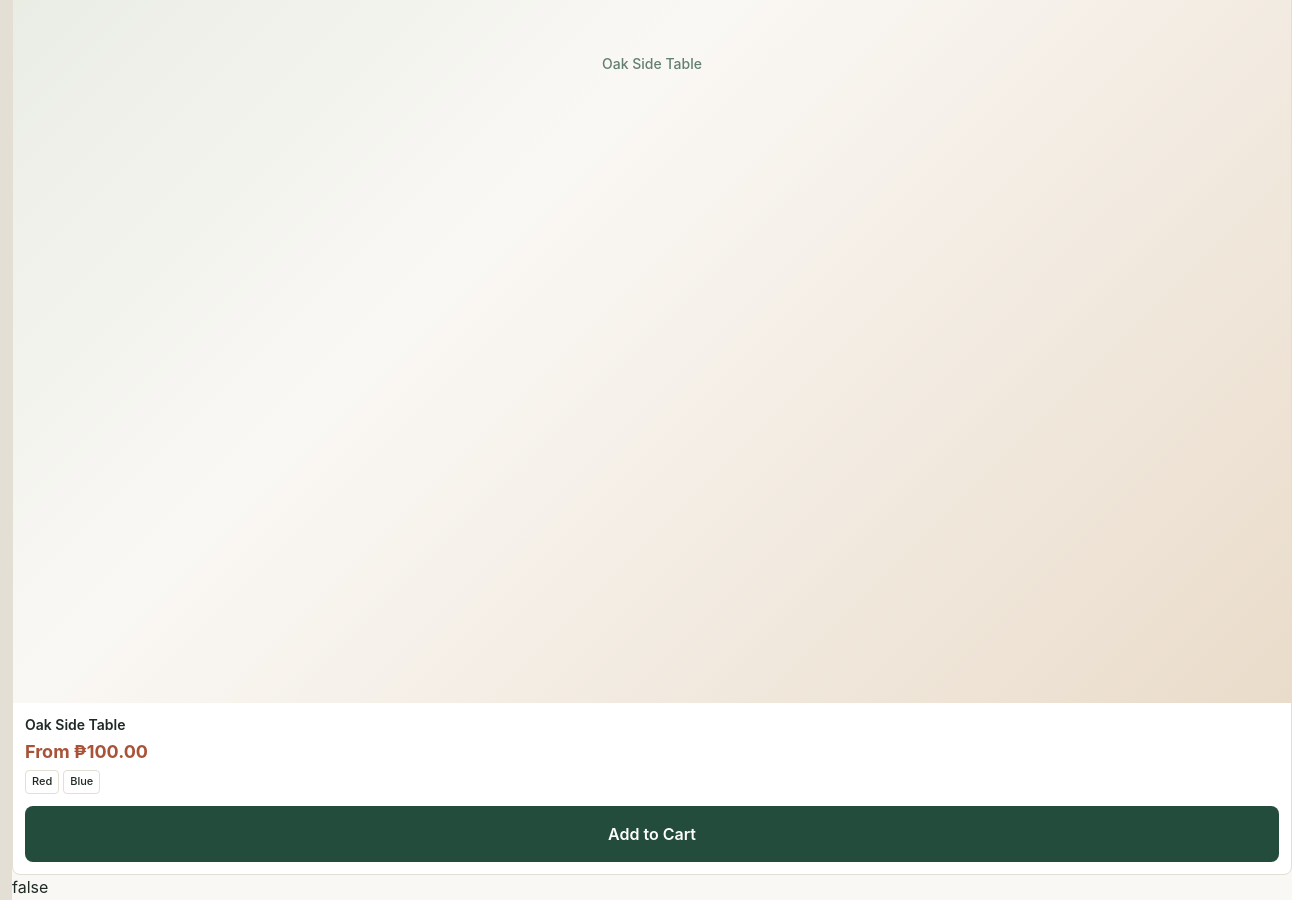
Test: ProductCard inline purchase › focuses the missing group rather than adding a guessed SKU
(page scrolled)
Click the button "Add to Cart" at (652,834), box [25,806,1279,862]
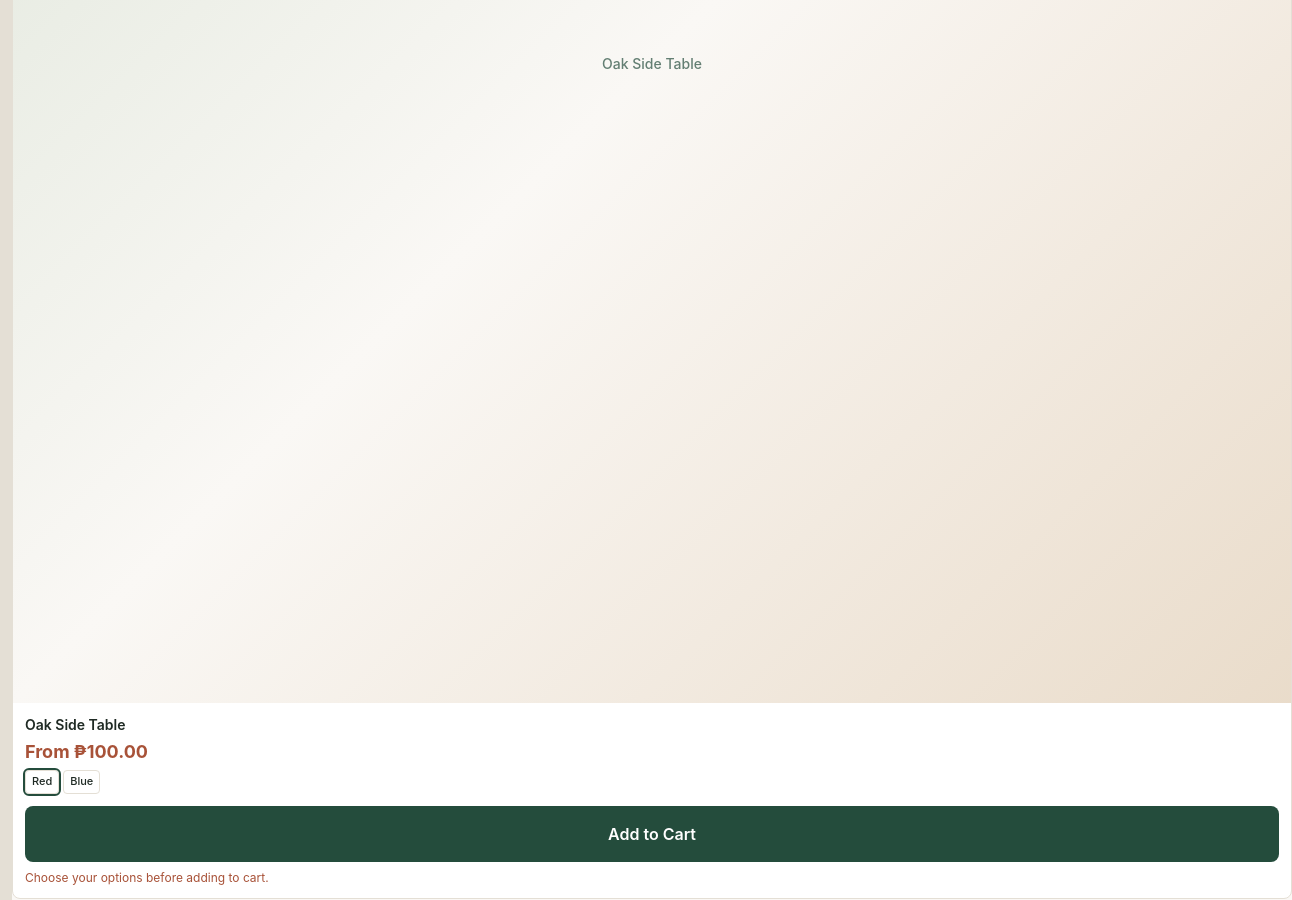
Now the message shows "Choose your options", box [25,870,269,884]
